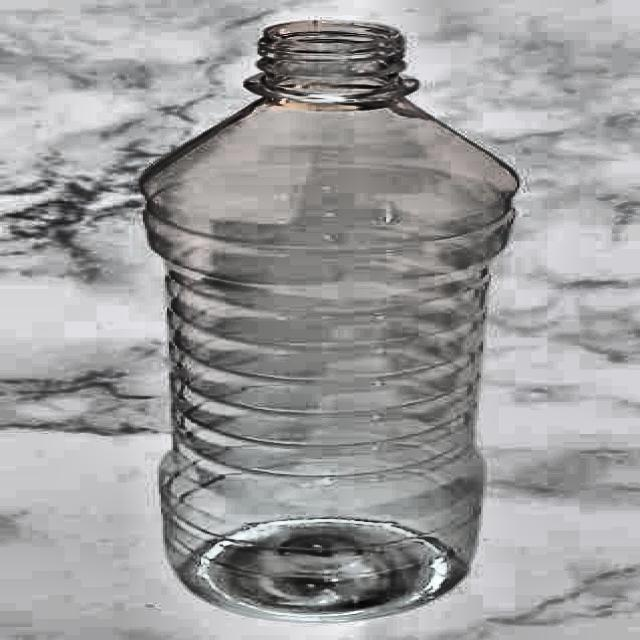Bottles: (113, 19, 558, 626)
